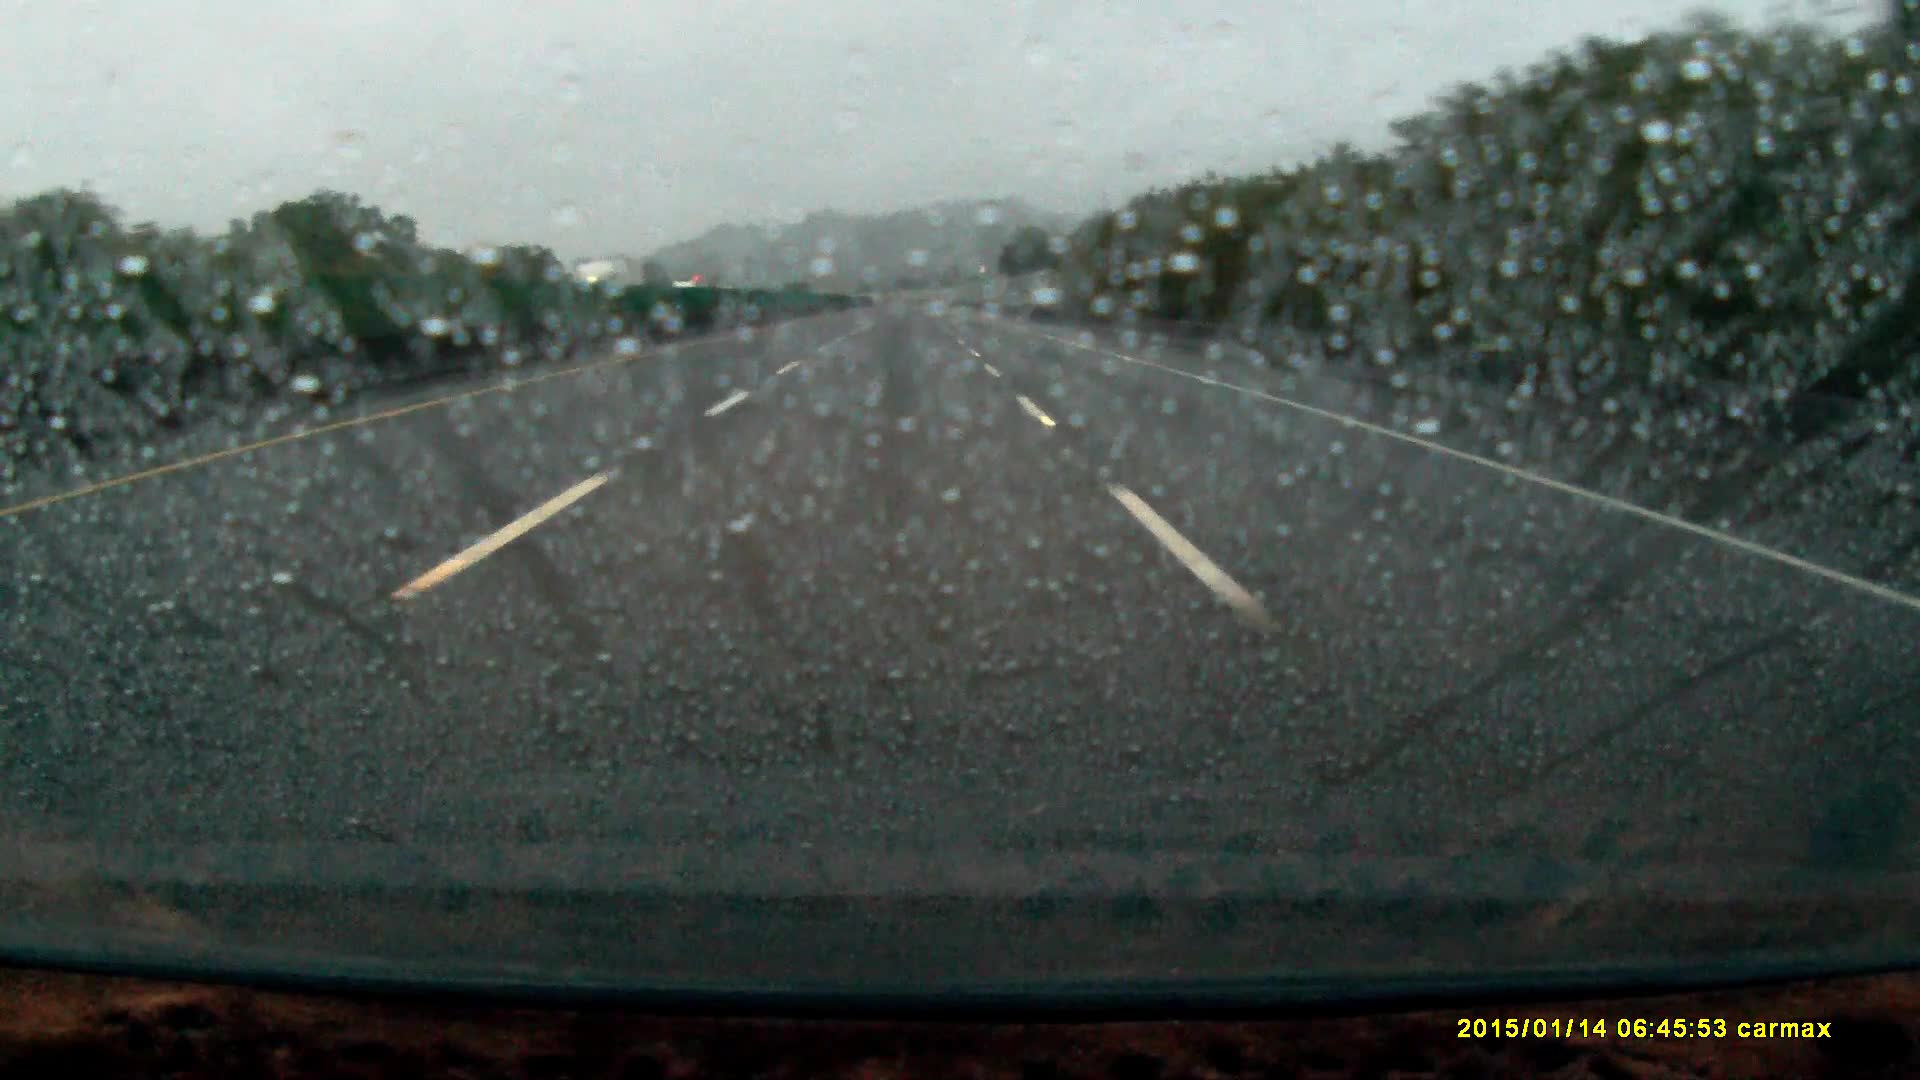vehicle: (673, 277, 709, 309)
